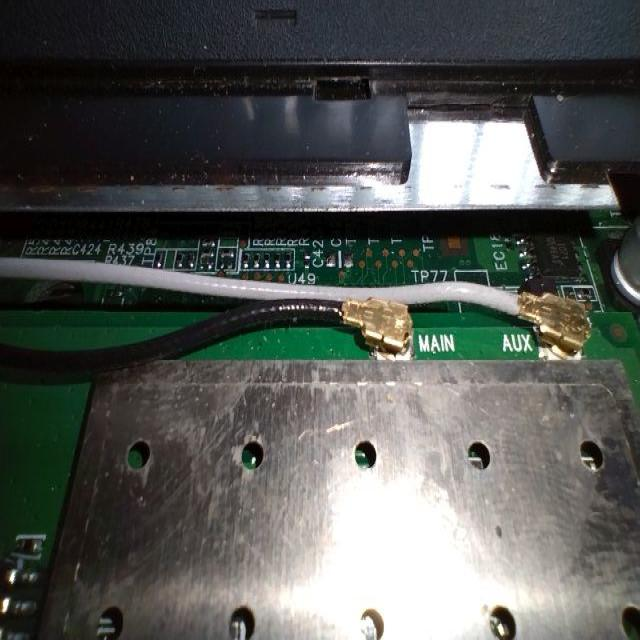resistor: (212, 238, 243, 263), (283, 238, 296, 279)
